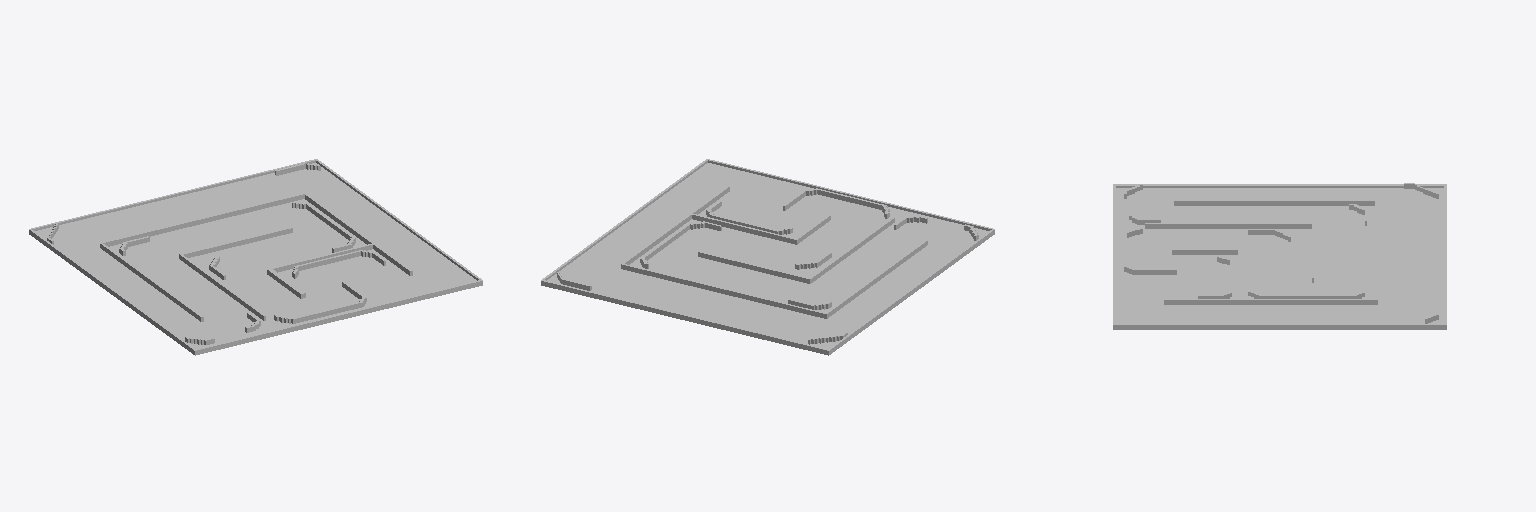
The model's file is corrida aleatoria para o fakart.obj.
3 renders of one model, left to right at view 1: azimuth 30°, elevation 25°; view 2: azimuth 150°, elevation 25°; view 3: azimuth 270°, elevation 25°, orthographic.
Parts seen in each view (by area): view 1: object 1; view 2: object 1; view 3: object 1.
Part boxes in pixels (x1,y1,x2,y2): object 1: (29, 159, 482, 355); object 1: (541, 159, 994, 355); object 1: (1113, 183, 1446, 329).
Size of the model in its own units: 12.6 by 0.3 by 12.6.